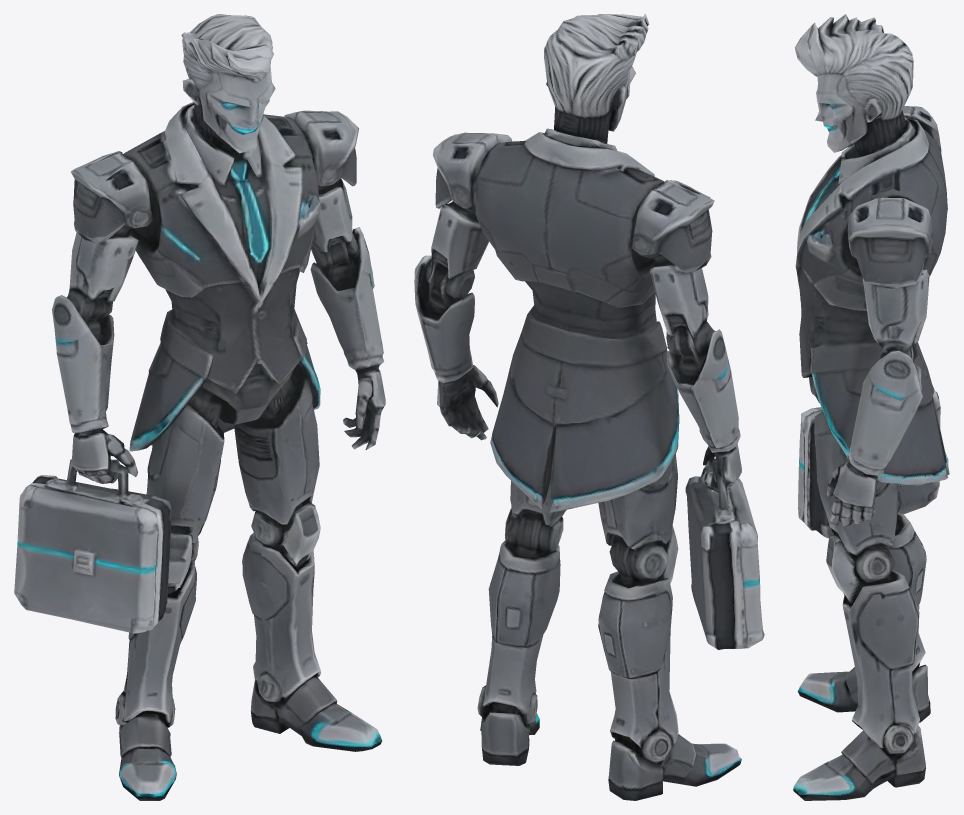
The model's file is statue-1.glb.
3 renders of one model, left to right at view 1: azimuth 30°, elevation 25°; view 2: azimuth 150°, elevation 25°; view 3: azimuth 270°, elevation 25°, orthographic. The views are drawn at different scales.
Visible parts, largest first — view 1: body; view 2: body; view 3: body.
Boxes of the visible parts, <box> form: body: <box>14,14,385,800</box>; body: <box>414,14,764,800</box>; body: <box>793,14,949,800</box>.
Bounding box in the file's own units: 0.4948 × 0.9997 × 0.1983.
Materials: 1 (1 with a texture image).
